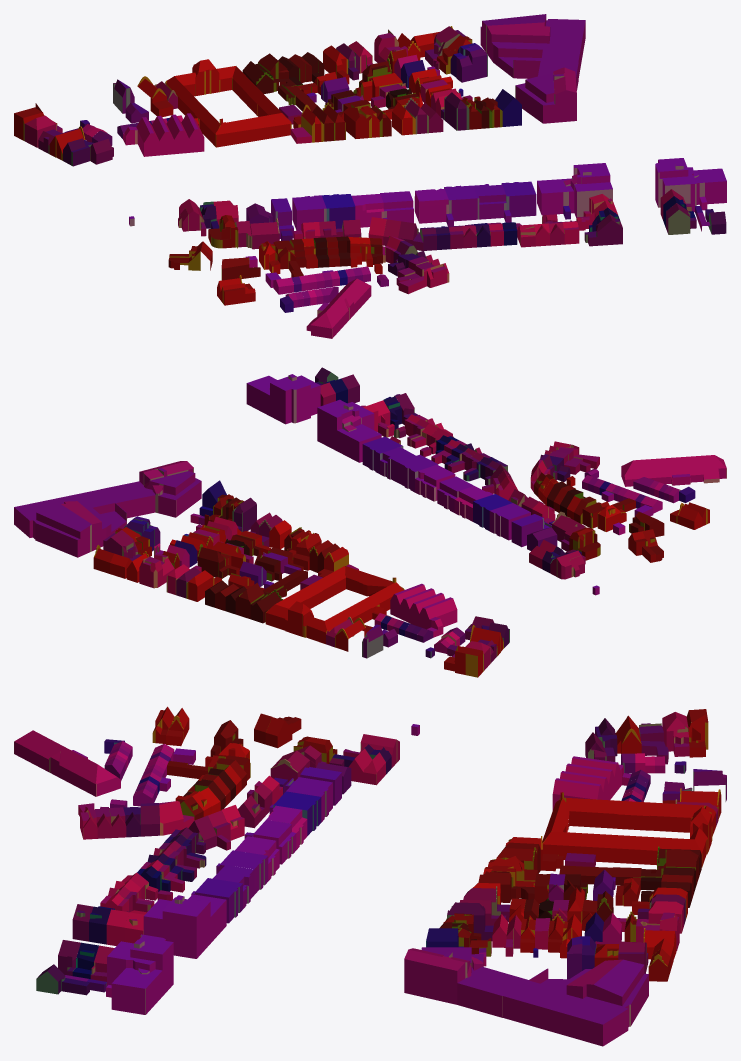
Rendered from buildings_10_12.glb.
The picture shows the model from 3 angles, top to bottom: view 1: azimuth 30°, elevation 25°; view 2: azimuth 150°, elevation 25°; view 3: azimuth 270°, elevation 25°; orthographic projection. The views are drawn at different scales.
Parts seen in each view (by area): view 1: buildings_10_12; view 2: buildings_10_12; view 3: buildings_10_12.
Boxes of the visible parts, <box> form: buildings_10_12: <box>14,14,726,338</box>; buildings_10_12: <box>14,367,726,677</box>; buildings_10_12: <box>14,706,726,1046</box>.
Size of the model in its own units: 234 by 15.76 by 219.
